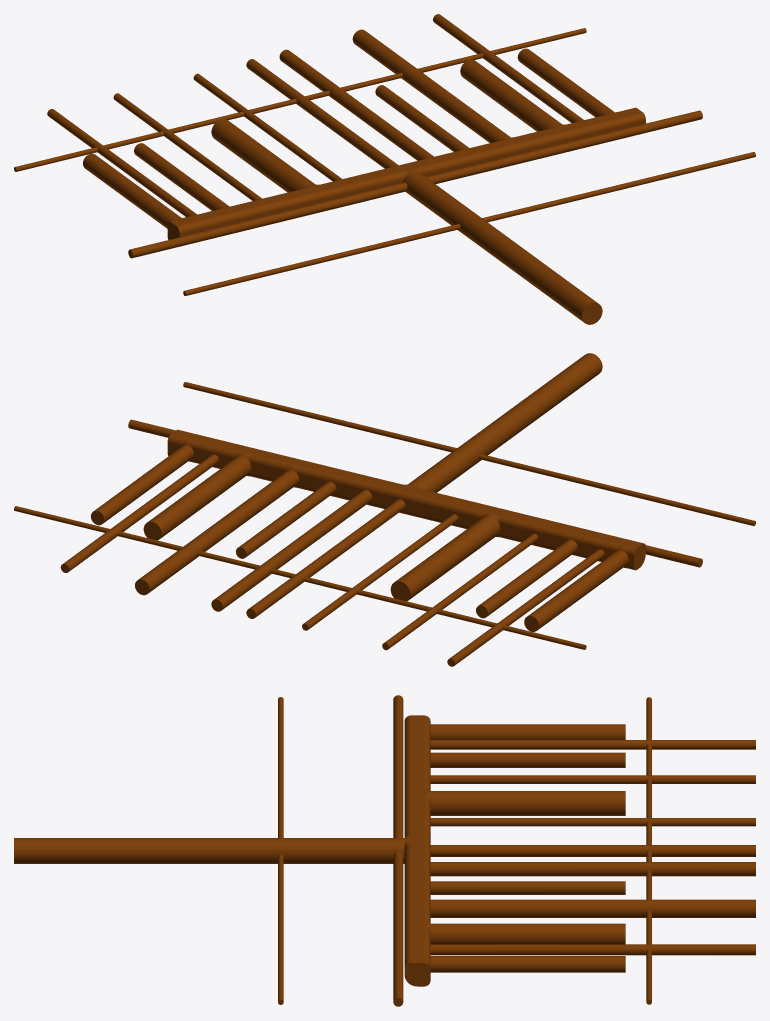
Rendered from vine_tree.dae.
3 views of the same model, one above another, from view 1: azimuth 30°, elevation 25°; view 2: azimuth 150°, elevation 25°; view 3: azimuth 270°, elevation 25° (orthographic). The views are drawn at different scales.
Parts seen in each view (by area): view 1: Body_1; view 2: Body_1; view 3: Body_1.
Part boxes in pixels (x1,y1,x2,y2): Body_1: (14, 14, 755, 324); Body_1: (14, 353, 755, 666); Body_1: (14, 695, 755, 1006).
Size of the model in its own units: 1.1 by 1.14 by 0.04.
